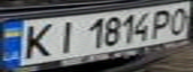1: (81, 16, 106, 50), (121, 11, 139, 44)
4: (130, 10, 157, 43)
8: (103, 14, 124, 47)
I: (48, 18, 81, 54)
K: (12, 20, 60, 60)
O: (166, 3, 193, 36)
P: (148, 7, 178, 38)
